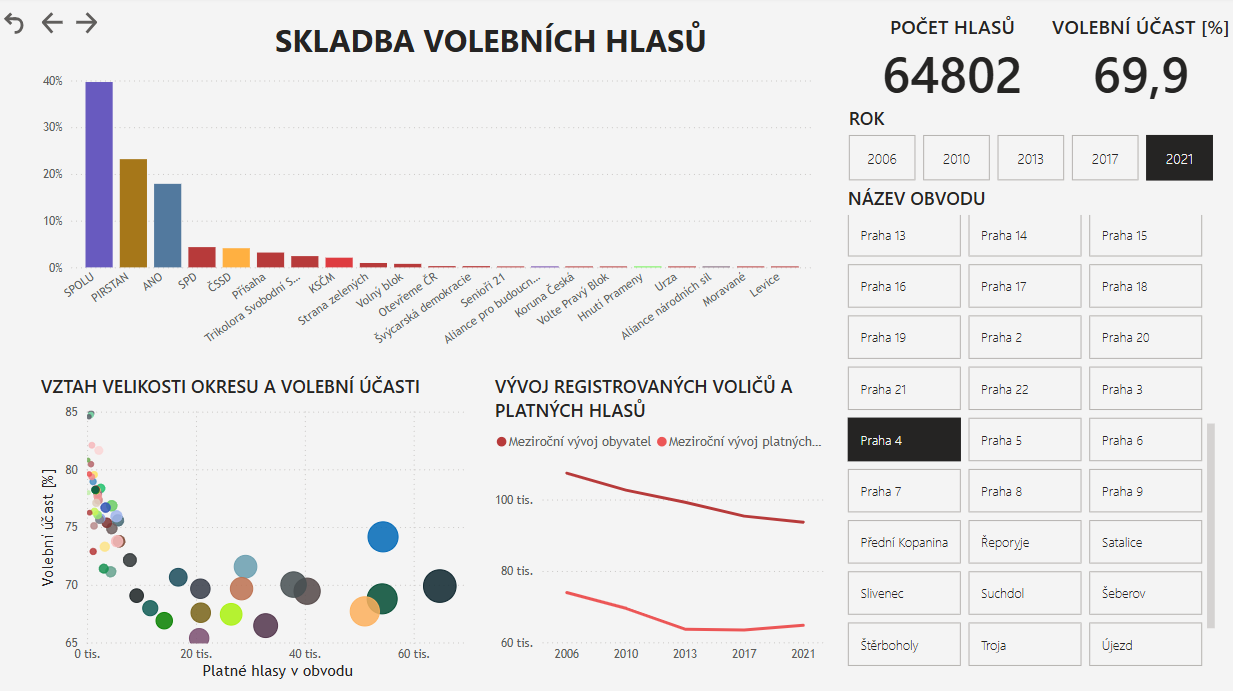

What the dashboard file says about the page in this screenshot:
{"tool":"powerbi","page":{"name":"Stránka 2","canvas":[1280,720],"ordinal":2},"visuals":[{"type":"textbox","box":[128.1,16.9,761.6,56.6],"z":0},{"type":"card","title":"VOLEBNÍ ÚČAST [%]","fields":{"Values":["master_účast.VolebníÚčast (%)"]},"box":[1085.3,16.6,194.7,95.3],"z":1000},{"type":"clusteredColumnChart","fields":{"Y":["Sum(master_hlasy.POČET HLASŮ)"],"Category":["master_hlasy.STRANA"]},"box":[40.9,72.9,807.3,299.6],"z":2000},{"type":"advancedSlicerVisual","fields":{"Values":["kod-obvod.NÁZEV OBVODU"]},"box":[874.4,195.6,390,508.9],"z":3000},{"type":"advancedSlicerVisual","fields":{"Values":["master_hlasy.ROK"]},"box":[874.9,112.5,389.5,82.3],"z":4000},{"type":"card","title":"POČET HLASŮ","fields":{"Values":["Sum(master_hlasy.POČET HLASŮ)"]},"box":[889.6,16.6,195.7,95.3],"z":5000},{"type":"lineChart","title":"VÝVOJ REGISTROVANÝCH VOLIČŮ A PLATNÝCH HLASŮ","fields":{"Category":["master_účast.ROK"],"Y":["Sum(master_účast.REGISTROVANÝCH VOLIČŮ)","Sum(master_účast.PLATNÝCH HLASŮ)"]},"box":[508.9,390,354.4,305.6],"z":6000},{"type":"actionButton","box":[40.6,11.6,33.8,30.9],"z":7000},{"type":"actionButton","box":[74.4,11.6,40.6,30.9],"z":8000},{"type":"actionButton","box":[0,11.4,40.4,31.1],"z":9000},{"type":"scatterChart","title":"VZTAH VELIKOSTI OKRESU A VOLEBNÍ ÚČASTI","fields":{"Y":["master_účast.[Volební účast [%]"],"Series":["master_hlasy.NÁZEV OBVODU"],"X":["master_hlasy.Platné hlasy v obvodu"],"Size":["master_hlasy.Platné hlasy v obvodu"]},"box":[38.8,390,470,322.4],"z":10000}]}

Visuals, with their boxes on the page's 1280x720 design canvas (x1, y1, x2, y2). These are canvas units, not pixel positions in the 1233x691 screenshot, which may show the page scaled, cropped or inside an application window:
textbox: bbox=[128, 17, 890, 74]
"VOLEBNÍ ÚČAST [%]" card: bbox=[1085, 17, 1280, 112]
clusteredColumnChart - Sum(master_hlasy.POČET HLASŮ) x master_hlasy.STRANA: bbox=[41, 73, 848, 372]
advancedSlicerVisual - kod-obvod.NÁZEV OBVODU: bbox=[874, 196, 1264, 704]
advancedSlicerVisual - master_hlasy.ROK: bbox=[875, 112, 1264, 195]
"POČET HLASŮ" card: bbox=[890, 17, 1085, 112]
"VÝVOJ REGISTROVANÝCH VOLIČŮ A PLATNÝCH HLASŮ" lineChart: bbox=[509, 390, 863, 696]
actionButton: bbox=[41, 12, 74, 42]
actionButton: bbox=[74, 12, 115, 42]
actionButton: bbox=[0, 11, 40, 42]
"VZTAH VELIKOSTI OKRESU A VOLEBNÍ ÚČASTI" scatterChart: bbox=[39, 390, 509, 712]
